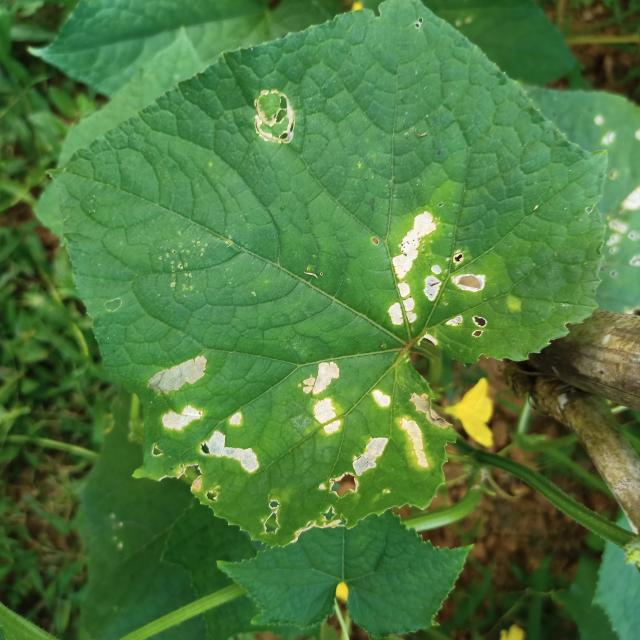disease_cucumber: (378, 206, 496, 345), (353, 379, 446, 478), (144, 353, 212, 437), (296, 355, 349, 439), (207, 410, 266, 477)
